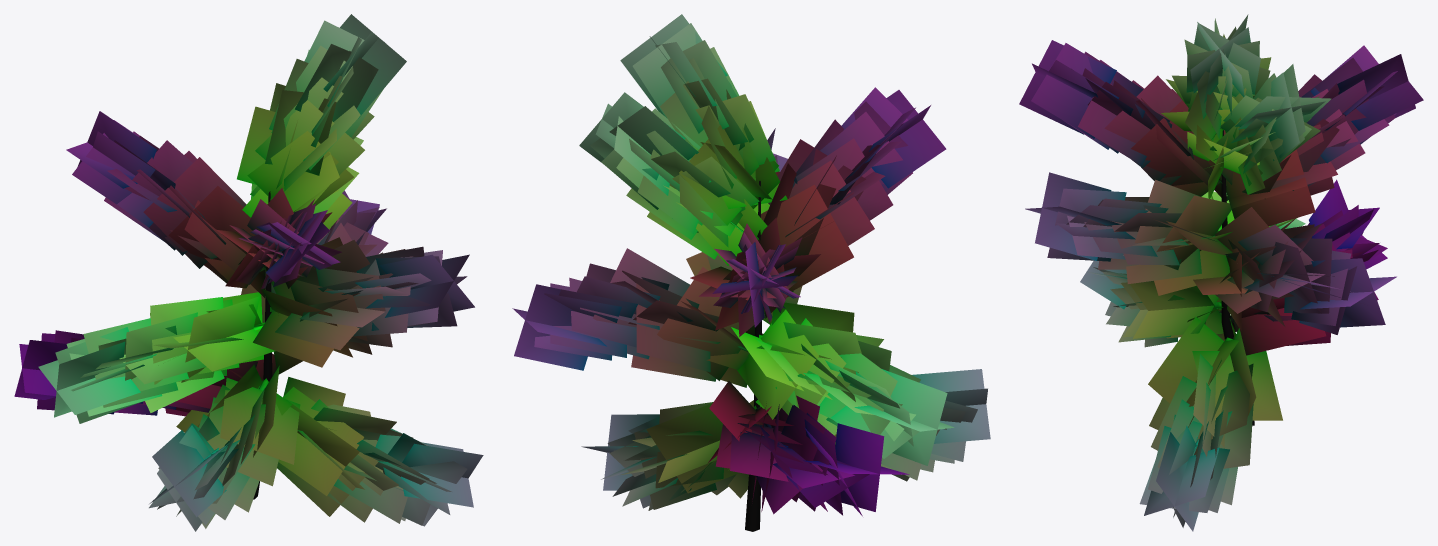
Rendered from URP_P6_Tree_10_LOD_3.fbx.
The picture shows the model from 3 angles, left to right: view 1: azimuth 30°, elevation 25°; view 2: azimuth 150°, elevation 25°; view 3: azimuth 270°, elevation 25°; orthographic projection. The views are drawn at different scales.
Visible parts, largest first — view 1: Tree_10_LOD_3; view 2: Tree_10_LOD_3; view 3: Tree_10_LOD_3.
Part boxes in pixels (bbox=[...]): Tree_10_LOD_3: bbox=[14, 14, 483, 531]; Tree_10_LOD_3: bbox=[512, 14, 990, 531]; Tree_10_LOD_3: bbox=[1019, 14, 1423, 531].
Size of the model in its own units: 883 by 1106 by 836.
